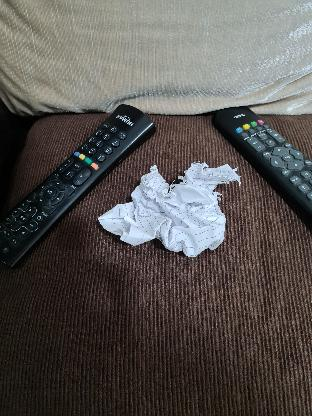Paper: (103, 164, 246, 250)
